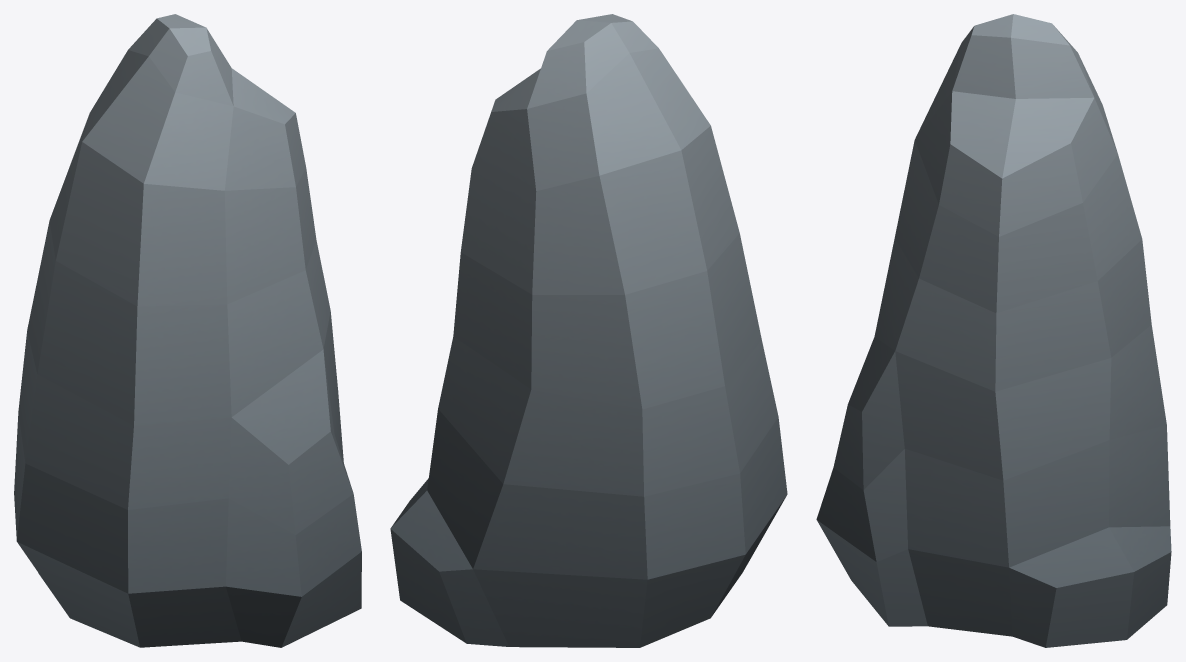
Rendered from skała2.fbx.
3 renders of one model, left to right at view 1: azimuth 30°, elevation 25°; view 2: azimuth 150°, elevation 25°; view 3: azimuth 270°, elevation 25°, orthographic. The views are drawn at different scales.
Parts seen in each view (by area): view 1: skała2; view 2: skała2; view 3: skała2.
Boxes of the visible parts, left/top/right/bottom form: skała2: left=14, top=14, right=361, bottom=647; skała2: left=390, top=14, right=787, bottom=647; skała2: left=816, top=14, right=1171, bottom=647.
Size of the model in its own units: 557 by 953 by 547.
